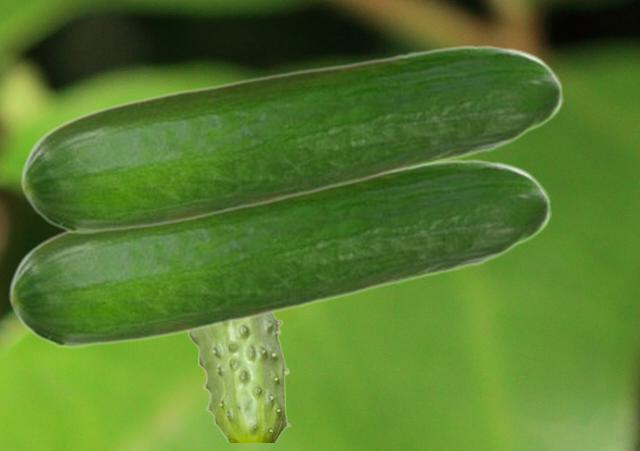cucumber: (8, 158, 550, 348), (20, 44, 562, 234), (187, 314, 290, 441)
